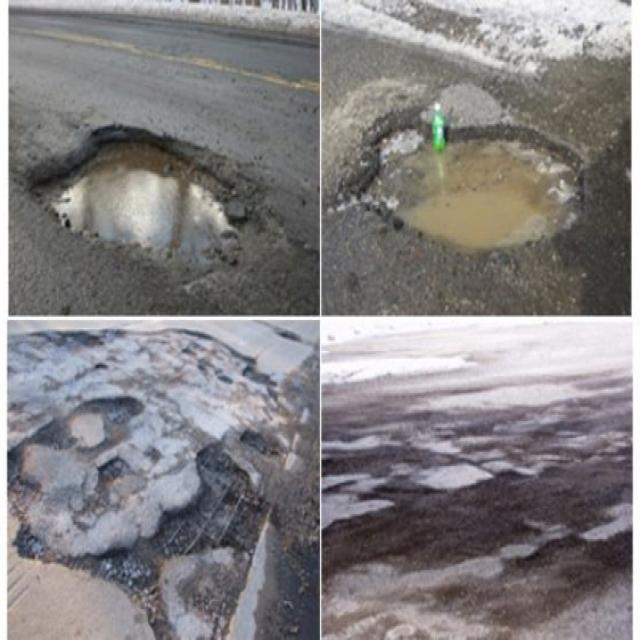pothole: (22, 114, 274, 274), (344, 99, 594, 255)
